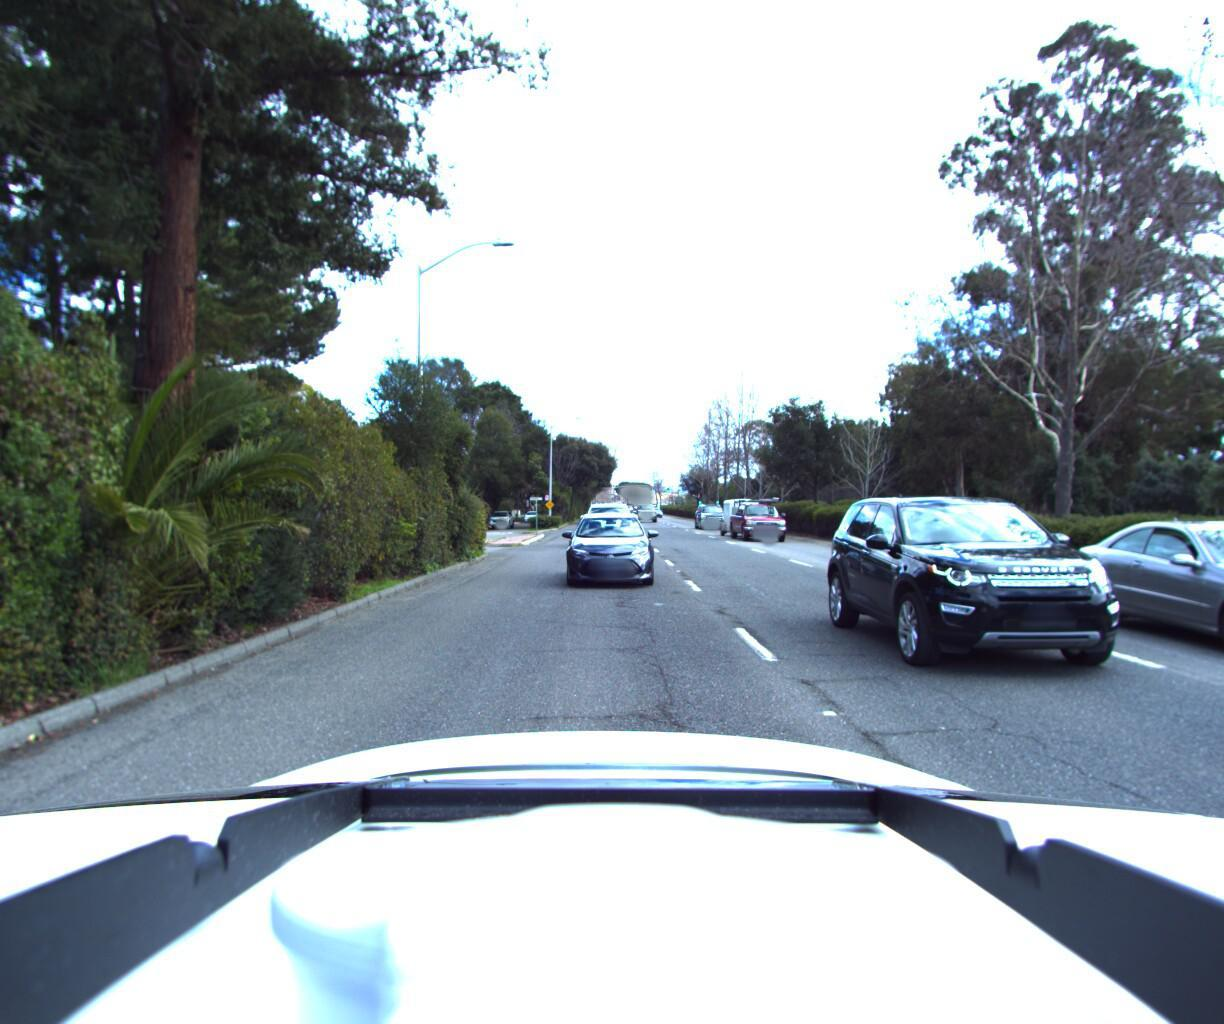car: (841, 485, 1224, 724), (1102, 513, 1224, 705), (563, 513, 660, 594), (720, 495, 799, 547), (583, 505, 636, 552), (692, 505, 730, 533), (488, 511, 519, 532), (636, 506, 659, 526)
